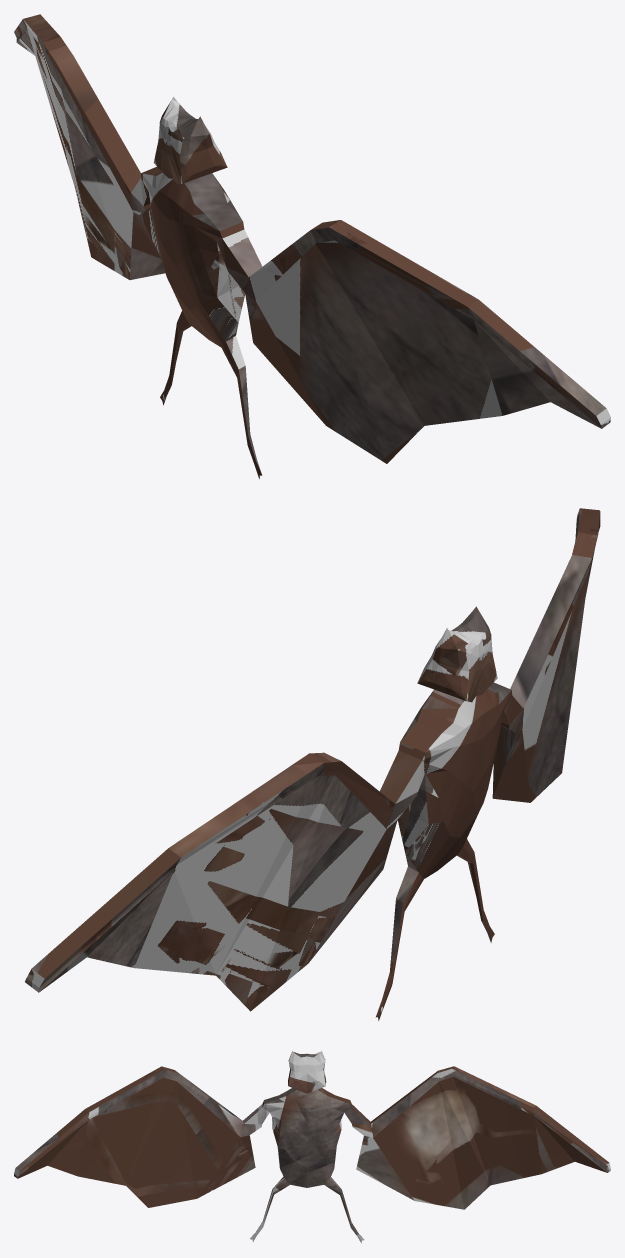
File: Enemigo125.obj
3 views of the same model, one above another, from view 1: azimuth 30°, elevation 25°; view 2: azimuth 150°, elevation 25°; view 3: azimuth 270°, elevation 25° (orthographic). The views are drawn at different scales.
Visible parts, largest first — view 1: Plano; view 2: Plano; view 3: Plano.
Part boxes in pixels (left/top/right/bottom): Plano: left=14, top=14, right=610, bottom=479; Plano: left=25, top=508, right=600, bottom=1020; Plano: left=14, top=1050, right=610, bottom=1242.
Bounding box in the file's own units: 0.4126 × 0.7568 × 2.2.
Materials: 1 (1 with a texture image).
